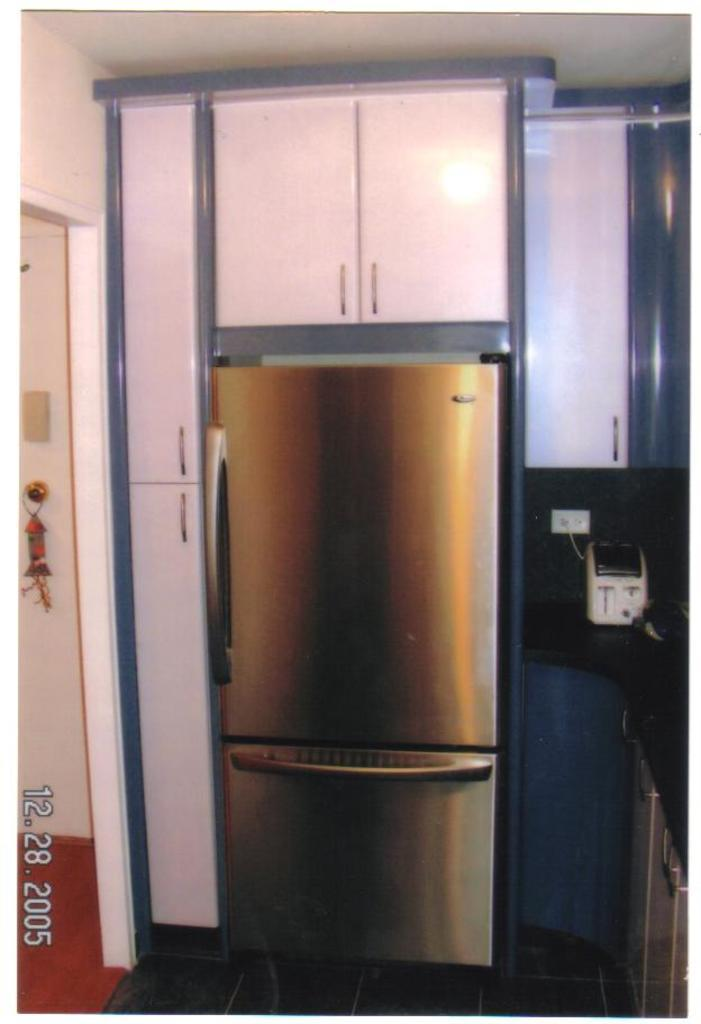cabinet_door: (525, 117, 629, 468), (356, 101, 506, 327), (215, 98, 361, 318), (131, 488, 203, 914), (122, 111, 196, 482), (609, 680, 632, 933), (650, 804, 674, 1024), (630, 756, 650, 982), (668, 868, 698, 1012)
handle: (231, 741, 490, 802), (202, 440, 238, 674), (173, 480, 192, 548), (605, 404, 622, 465), (666, 838, 678, 903), (656, 812, 668, 876), (170, 424, 184, 472), (618, 698, 630, 754), (370, 255, 382, 310), (638, 746, 648, 806), (338, 262, 348, 314)
